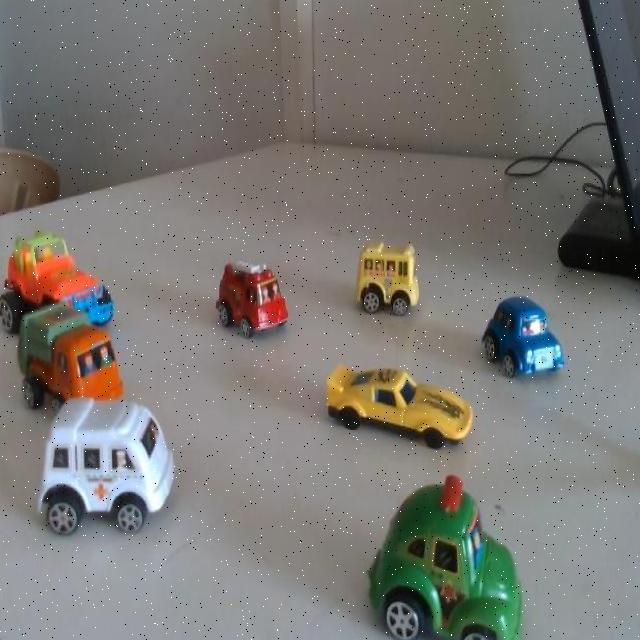car: (49, 371, 205, 563), (397, 490, 527, 640), (340, 349, 468, 467), (33, 224, 123, 336), (44, 294, 115, 419), (349, 235, 434, 334), (215, 249, 290, 357), (495, 291, 566, 385)
